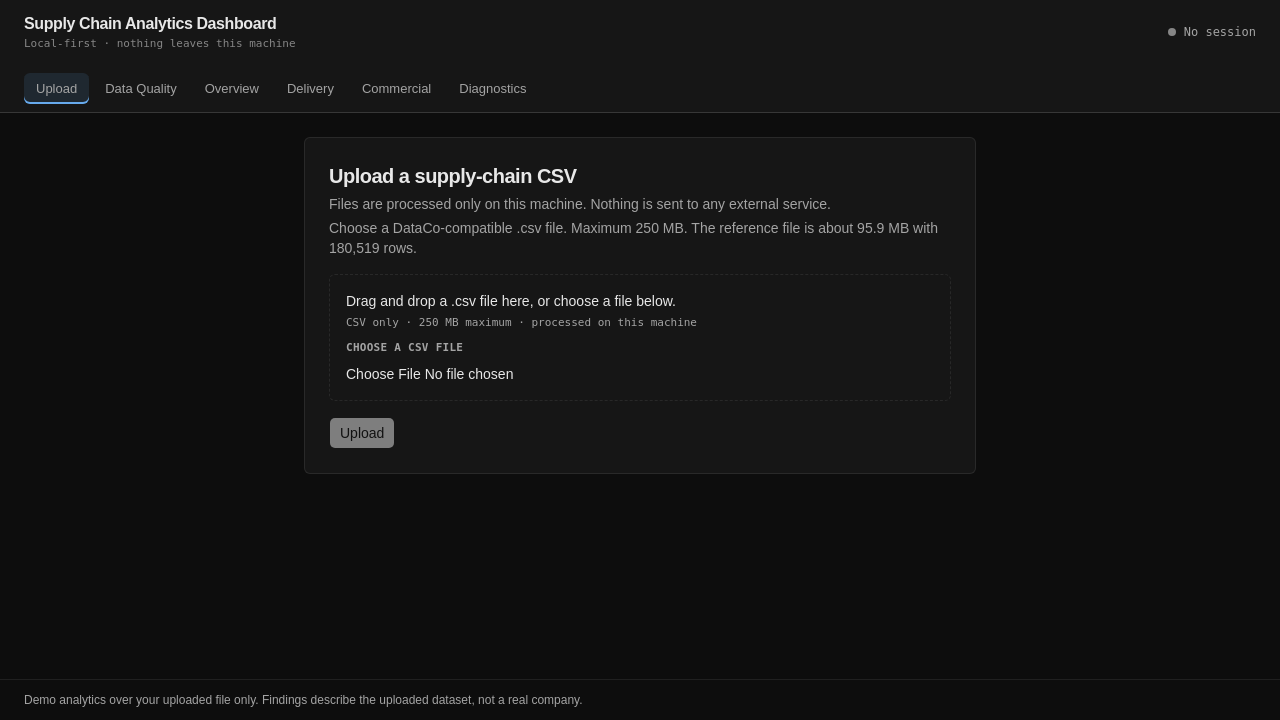
Phase-14 Commercial analytics › renders the governed empty state without requesting KPIs
Click the button "Commercial": (397, 88) x1=350 y1=72 x2=443 y2=104
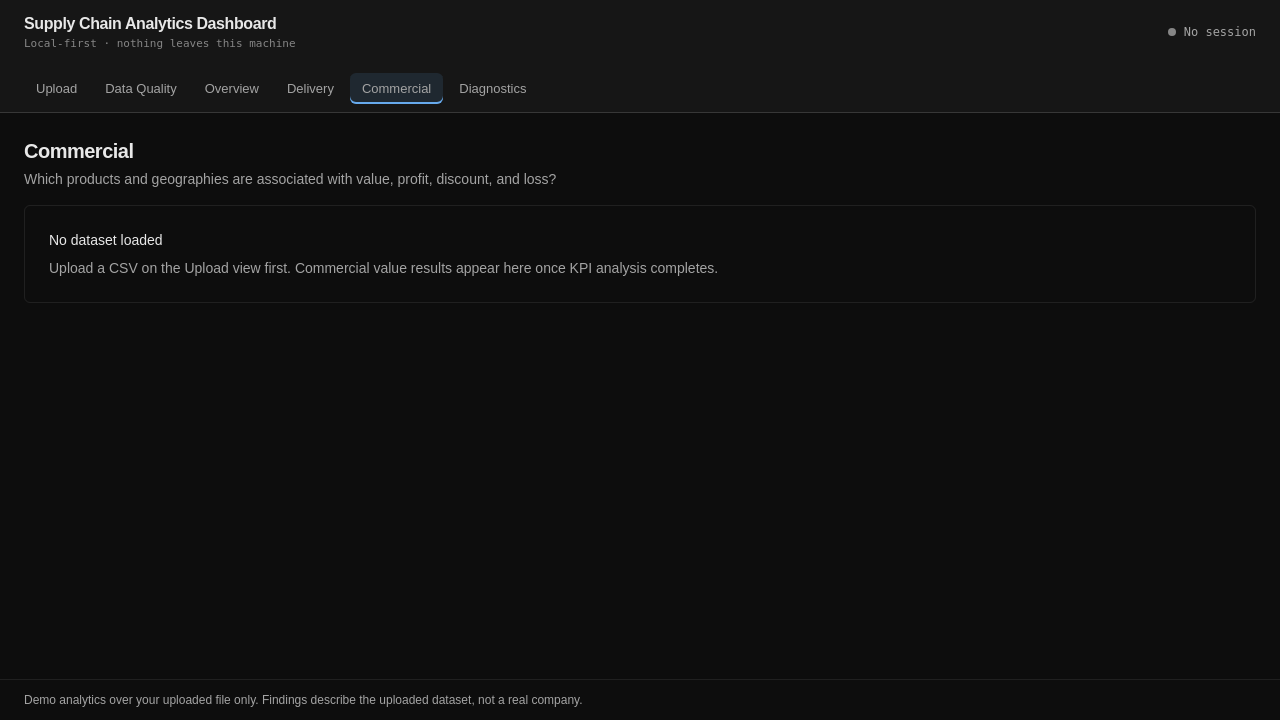
Result: the heading "Commercial" is shown at x1=24 y1=140 x2=134 y2=162
Result: the text "No dataset loaded" is shown at x1=49 y1=230 x2=163 y2=250
